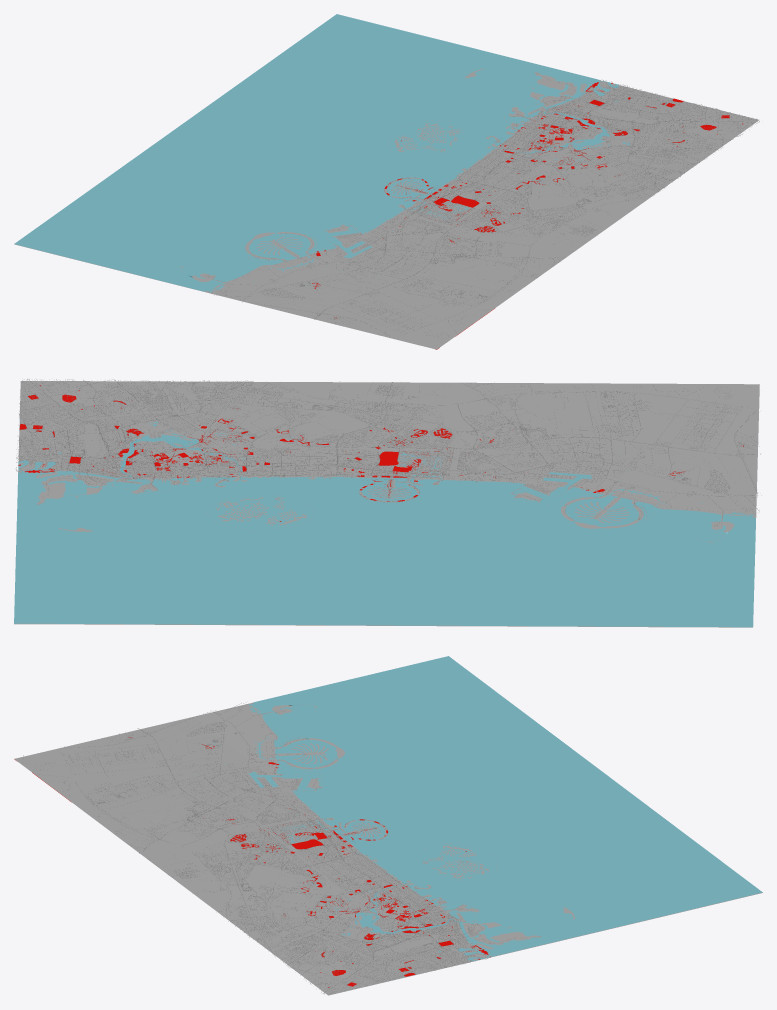
File: dubai-map.glb
3 views of the same model, one above another, from view 1: azimuth 30°, elevation 25°; view 2: azimuth 150°, elevation 25°; view 3: azimuth 270°, elevation 25° (orthographic). The views are drawn at different scales.
Parts seen in each view (by area): view 1: main_water, Ground_color, road, Green_zone; view 2: main_water, Ground_color, road, Green_zone; view 3: main_water, Ground_color, road, Green_zone.
Boxes of the visible parts, left/top/right/bottom form: main_water: left=14, top=14, right=691, bottom=292; Ground_color: left=14, top=68, right=758, bottom=349; road: left=207, top=73, right=759, bottom=337; Green_zone: left=312, top=82, right=742, bottom=349; main_water: left=14, top=420, right=755, bottom=627; Ground_color: left=14, top=381, right=759, bottom=627; road: left=16, top=379, right=761, bottom=526; Green_zone: left=18, top=385, right=743, bottom=521; main_water: left=194, top=656, right=762, bottom=978; Ground_color: left=14, top=702, right=762, bottom=995; road: left=22, top=703, right=534, bottom=994; Green_zone: left=14, top=737, right=488, bottom=987.
Bounding box in the file's own units: 897 × 1.97 × 834.
